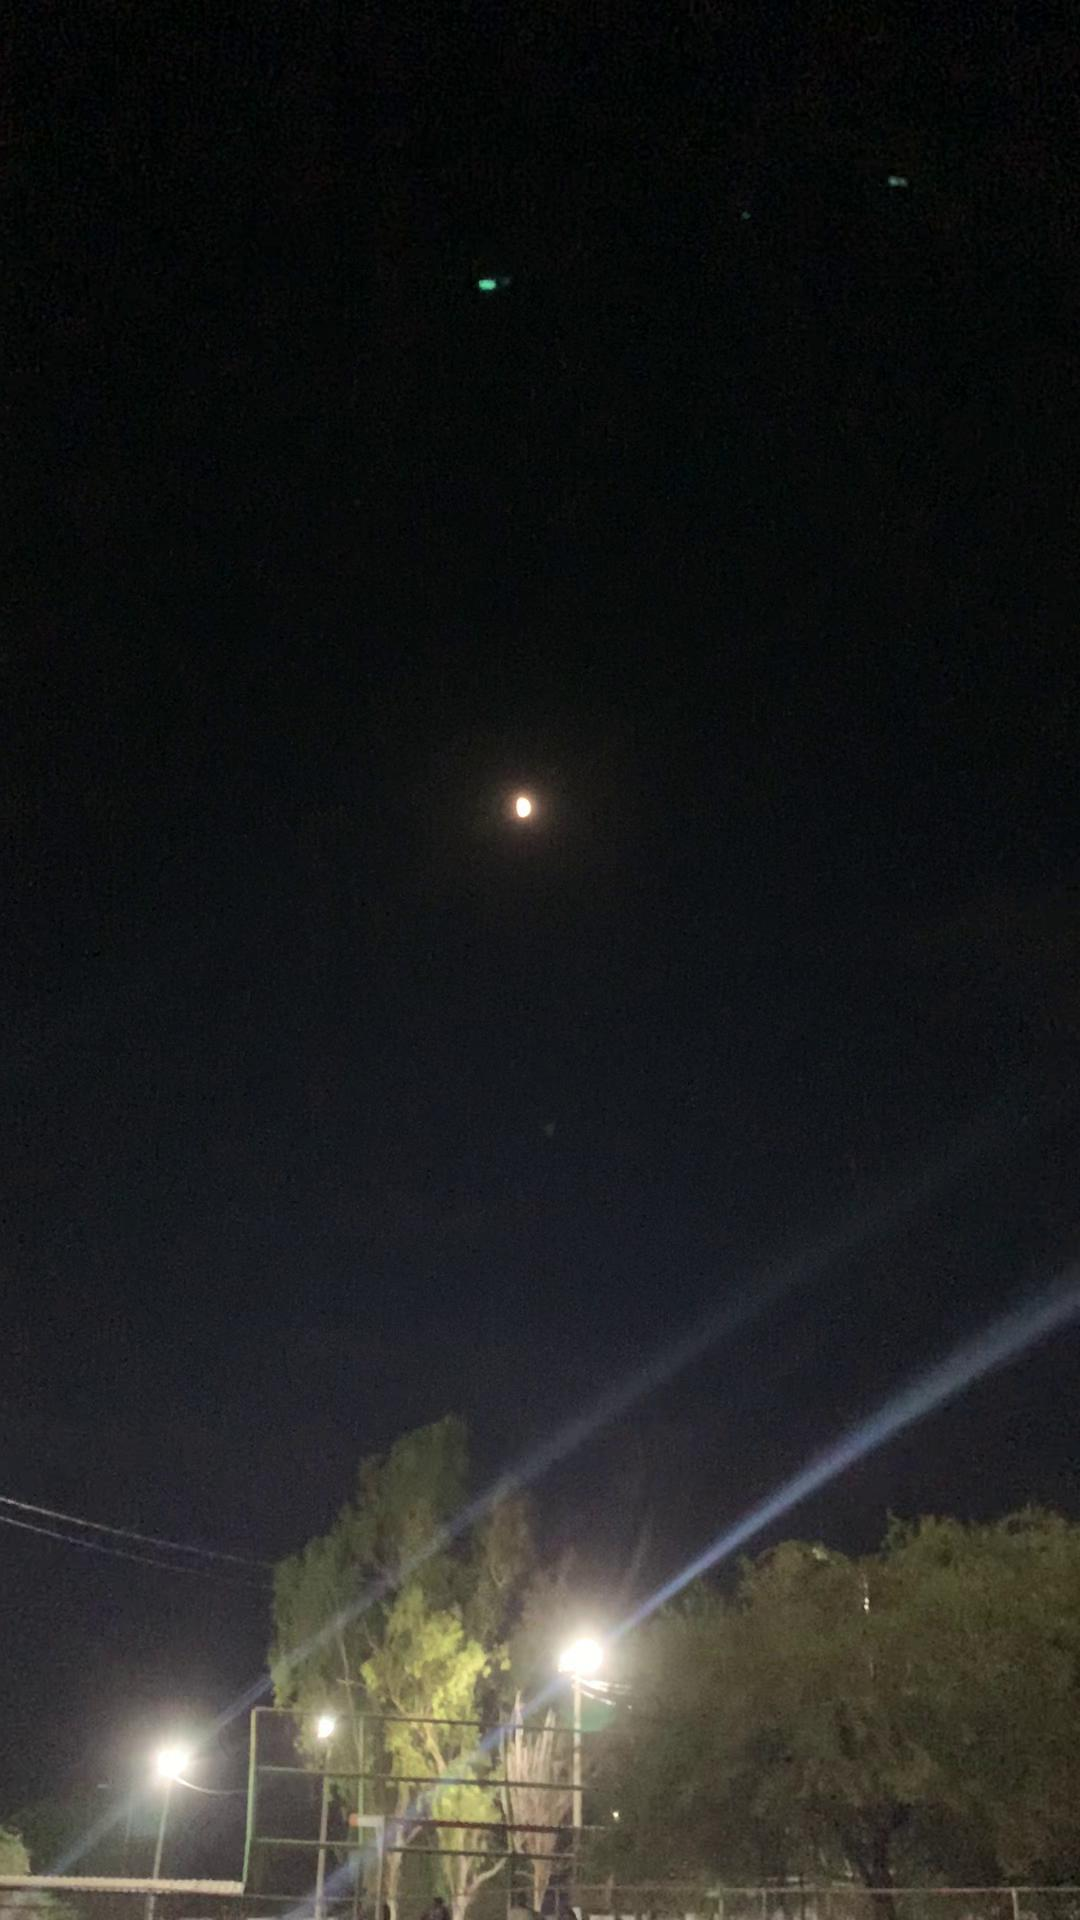moon: (487, 766, 566, 856)
